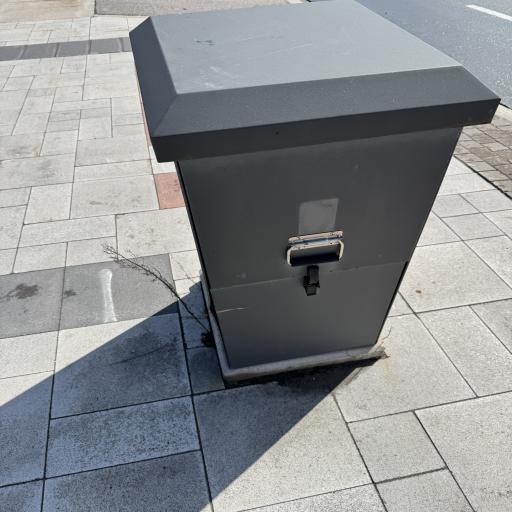Electrical Box: (131, 0, 502, 384)
